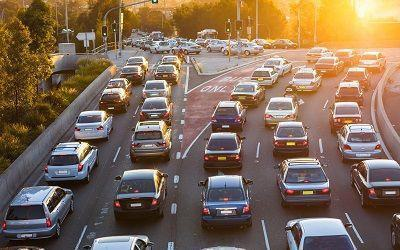car: (5, 179, 77, 240), (198, 152, 249, 209), (113, 170, 164, 224), (349, 152, 400, 206), (200, 174, 250, 229), (326, 114, 386, 158), (278, 159, 330, 207), (286, 217, 359, 250), (70, 93, 117, 140), (49, 139, 98, 183), (127, 121, 173, 162), (199, 128, 243, 170), (268, 122, 312, 158), (212, 98, 253, 132), (264, 96, 307, 127), (328, 99, 371, 129), (104, 75, 131, 111), (140, 99, 181, 122), (290, 67, 326, 92), (141, 76, 180, 97), (224, 40, 265, 59), (263, 54, 296, 76), (363, 48, 389, 75), (339, 81, 368, 104), (314, 53, 345, 74), (345, 64, 371, 82), (305, 46, 334, 61), (122, 65, 146, 83), (124, 53, 151, 69), (207, 39, 236, 53), (157, 62, 182, 77), (251, 68, 274, 83), (151, 40, 175, 54), (271, 39, 298, 51), (155, 55, 181, 67), (177, 41, 199, 54)
